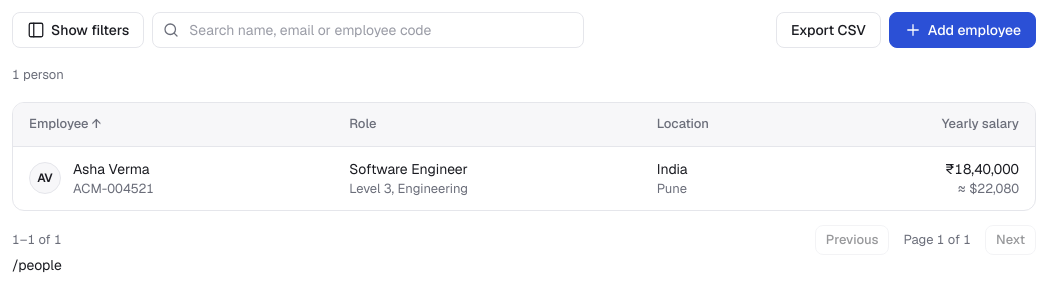
People › sorts by salary, highest first, from the column header
The width and height of the screenshot is (1048, 291).
Check: the text "Asha Verma" is shown, box [73,159,154,180]
Step 1. Click the button "Yearly salary" → coordinates (980, 124), box [942,115,1019,134]
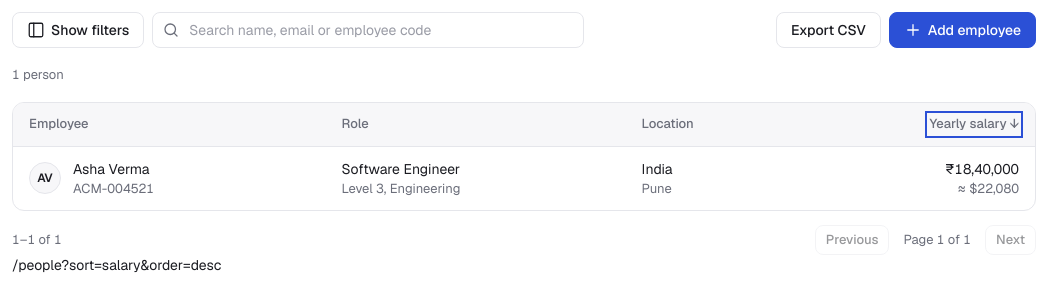
Check: the text with test id "location" reads "/people?sort=salary&order=desc", box [12,256,221,274]
